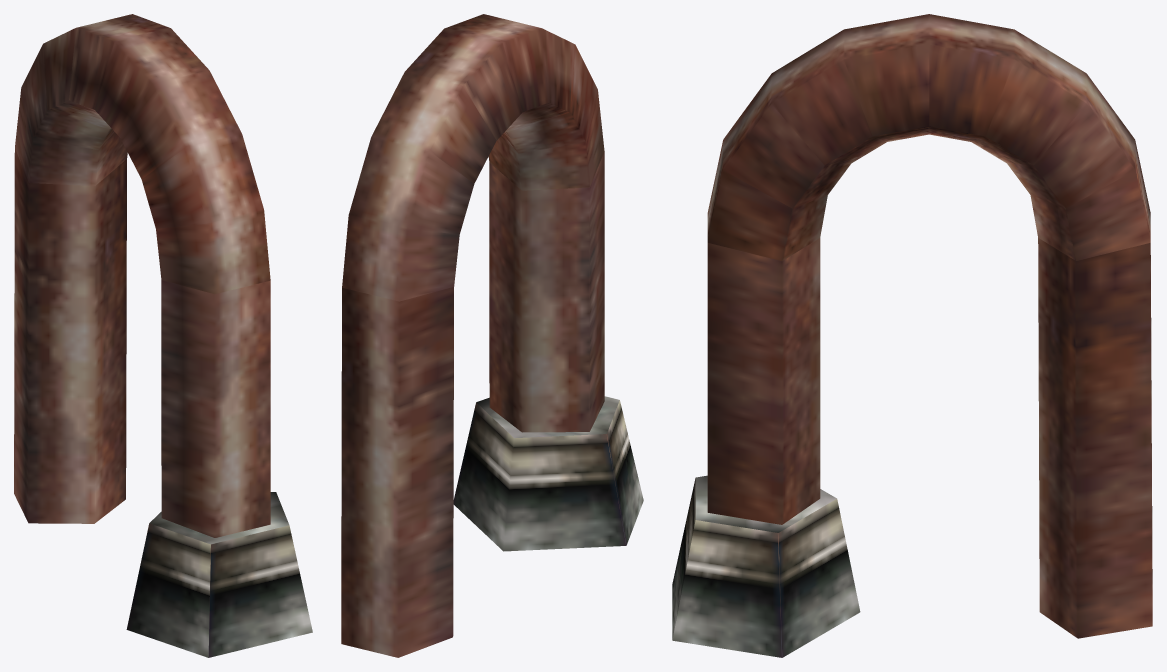
The model's file is pipe_top.fbx.
The picture shows the model from 3 angles, left to right: view 1: azimuth 30°, elevation 25°; view 2: azimuth 150°, elevation 25°; view 3: azimuth 270°, elevation 25°; orthographic projection. The views are drawn at different scales.
Visible parts, largest first — view 1: mesh_0, mesh_1, mesh_2; view 2: mesh_0, mesh_1, mesh_2; view 3: mesh_0, mesh_2, mesh_1.
Boxes of the visible parts, x1=… form: mesh_0: x1=14, y1=28, x2=214, y2=537; mesh_1: x1=76, y1=14, x2=270, y2=537; mesh_2: x1=126, y1=492, x2=312, y2=657; mesh_0: x1=398, y1=28, x2=604, y2=657; mesh_1: x1=341, y1=14, x2=541, y2=657; mesh_2: x1=453, y1=396, x2=643, y2=551; mesh_0: x1=707, y1=44, x2=1152, y2=638; mesh_2: x1=672, y1=475, x2=860, y2=657; mesh_1: x1=707, y1=14, x2=1152, y2=598.
Bounding box in the file's own units: 51.64 × 154 × 115.
Materials: 1 (1 with a texture image).
